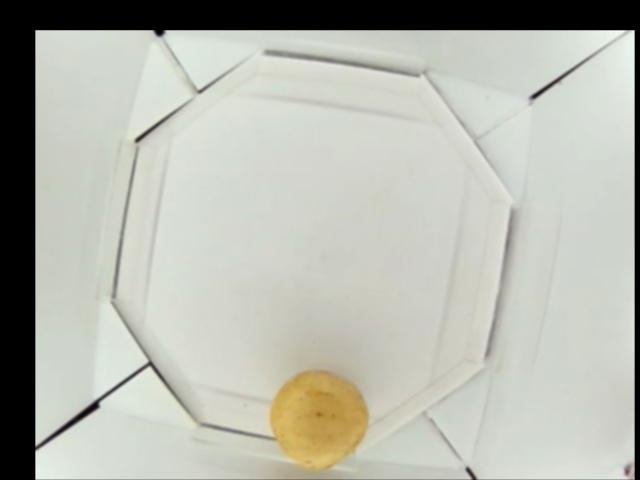Potato: (271, 369, 364, 472)
